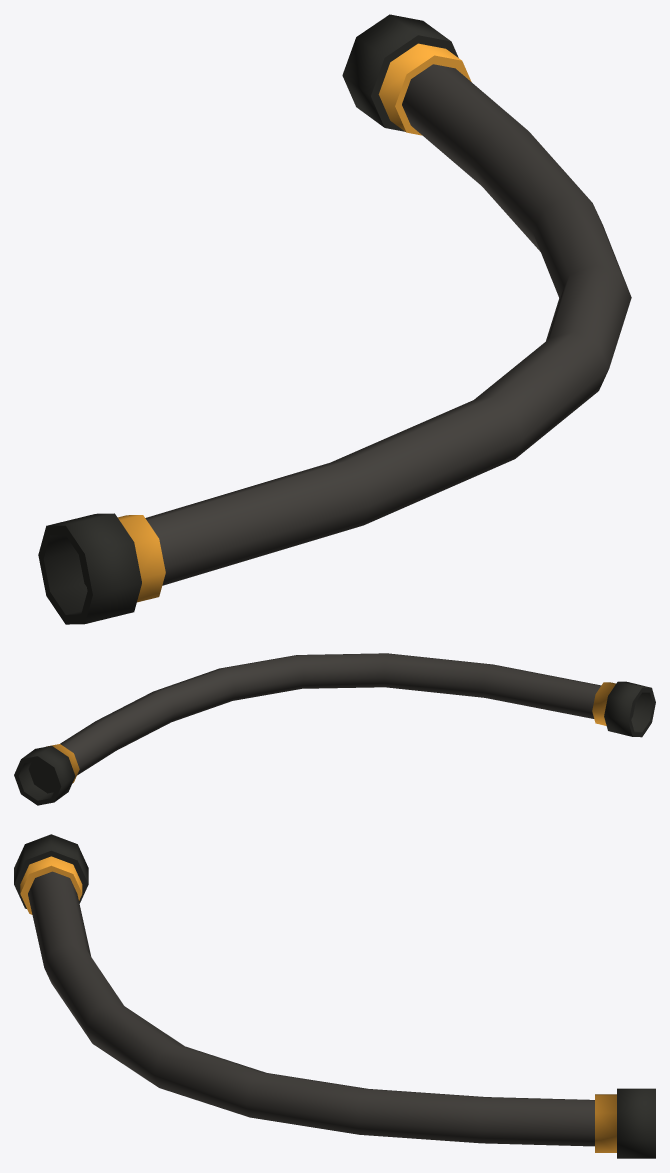
File: Cable_1M_Curve_02.glb
3 views of the same model, one above another, from view 1: azimuth 30°, elevation 25°; view 2: azimuth 150°, elevation 25°; view 3: azimuth 270°, elevation 25° (orthographic). The views are drawn at different scales.
Visible parts, largest first — view 1: Cable_1M_Curve_02; view 2: Cable_1M_Curve_02; view 3: Cable_1M_Curve_02.
Part boxes in pixels (box(x1,y1,x2,y2)): Cable_1M_Curve_02: box(38, 14, 631, 624); Cable_1M_Curve_02: box(14, 653, 655, 805); Cable_1M_Curve_02: box(14, 834, 655, 1158).
Size of what is drawn, in the model's own units: 1.06 by 0.1235 by 1.06.
1 material, 1 textured.
